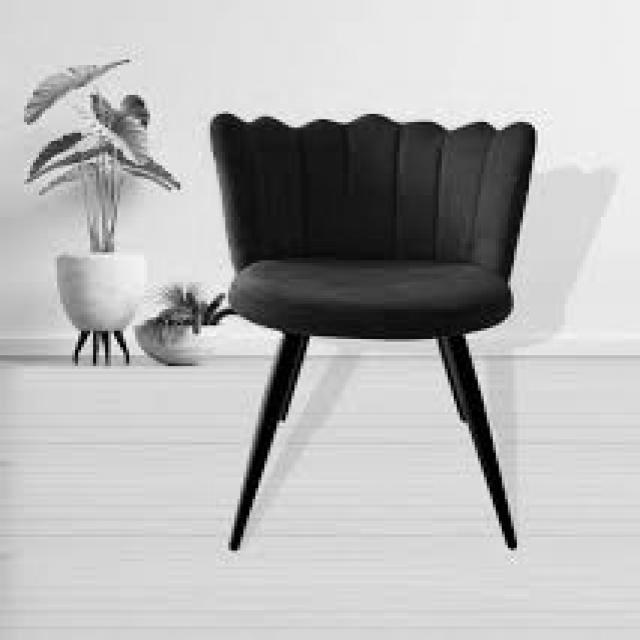chair: (203, 106, 538, 557)
